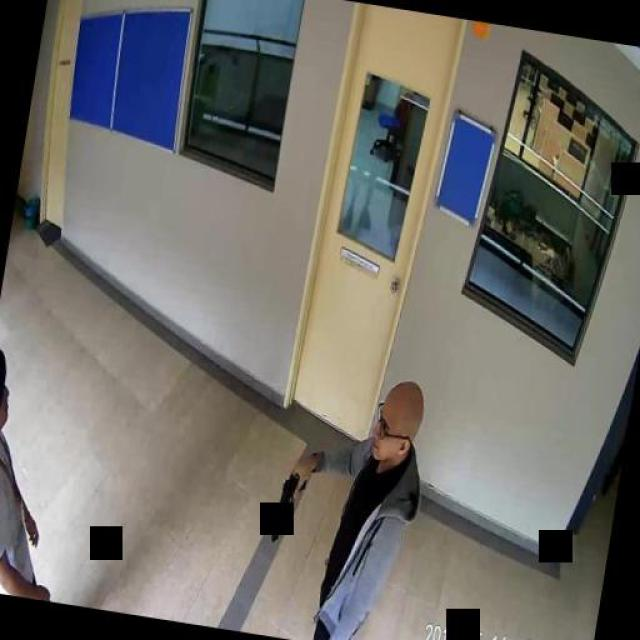gun: (272, 464, 308, 541)
